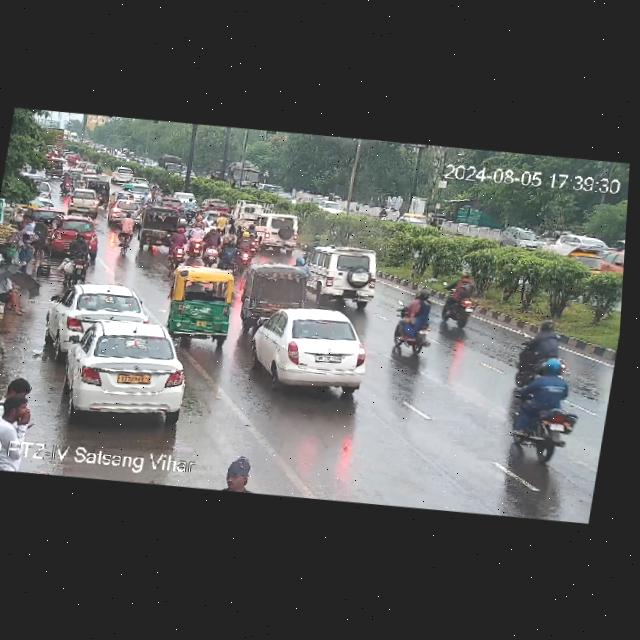car: (40, 314, 201, 425), (246, 302, 377, 394), (46, 279, 155, 353), (160, 264, 237, 346), (239, 261, 324, 331), (300, 245, 388, 311), (46, 212, 107, 255), (249, 209, 308, 253), (134, 205, 186, 250), (48, 214, 100, 251), (499, 221, 540, 251), (64, 186, 106, 215), (567, 246, 605, 276), (32, 180, 60, 212), (109, 197, 138, 225), (120, 180, 154, 201), (69, 159, 98, 183), (92, 177, 113, 207), (109, 165, 139, 183), (397, 216, 432, 231), (315, 199, 344, 215), (43, 157, 67, 176), (205, 197, 231, 214), (153, 195, 181, 209), (125, 176, 155, 189)
motorcycle: (508, 361, 582, 460), (387, 291, 437, 357), (427, 274, 487, 328), (222, 223, 257, 272), (62, 230, 92, 281), (163, 220, 192, 262), (198, 222, 227, 263), (181, 220, 209, 260), (113, 210, 137, 255), (150, 176, 174, 195), (58, 171, 74, 195), (183, 196, 197, 222), (379, 207, 389, 220), (96, 163, 105, 175)
person: (0, 374, 46, 447), (0, 261, 37, 313), (219, 451, 256, 491), (29, 215, 53, 264), (9, 230, 32, 279), (19, 212, 39, 236)
truck: (231, 191, 275, 225)
